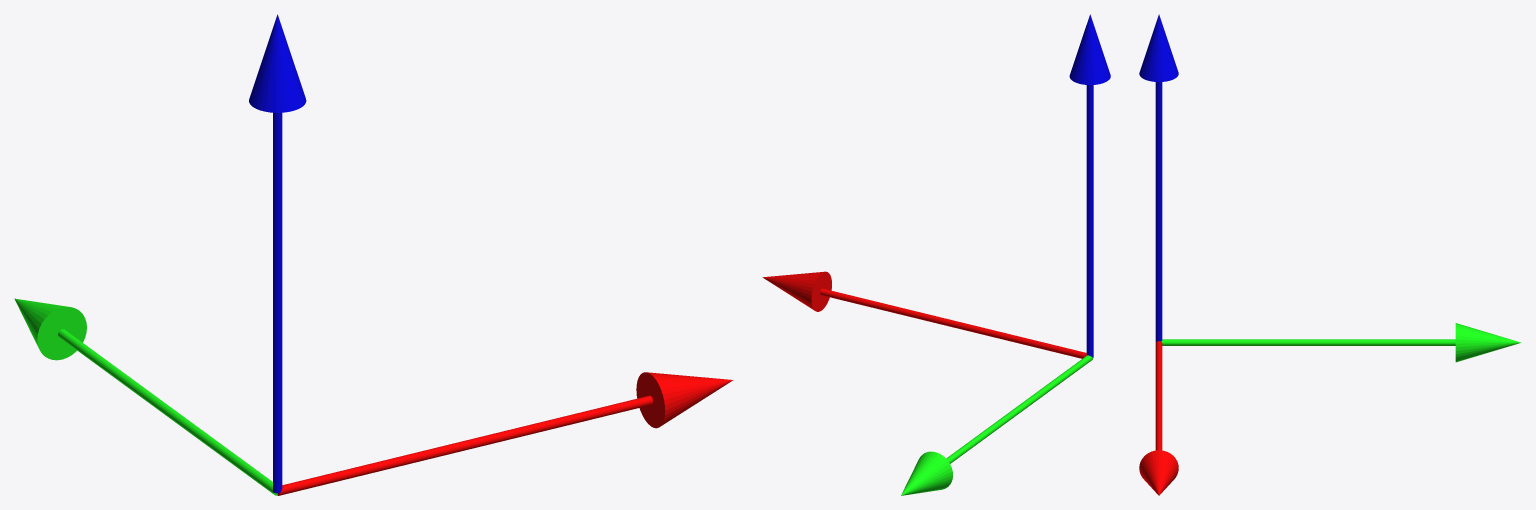
The model's file is axis.dae.
The picture shows the model from 3 angles, left to right: view 1: azimuth 30°, elevation 25°; view 2: azimuth 150°, elevation 25°; view 3: azimuth 270°, elevation 25°; orthographic projection. The views are drawn at different scales.
Visible parts, largest first — view 1: Z, X, Y; view 2: Z, X, Y; view 3: Z, Y, X.
Boxes of the visible parts, x1,y1,x2,y2 form: Z: (249, 14, 306, 493); X: (277, 372, 733, 495); Y: (14, 298, 277, 495); Z: (1069, 14, 1110, 357); X: (762, 271, 1086, 358); Y: (901, 355, 1093, 495); Z: (1139, 14, 1178, 341); Y: (1161, 323, 1520, 362); X: (1139, 341, 1178, 495).
Size of the model in its own units: 0.58 by 0.58 by 0.58.
